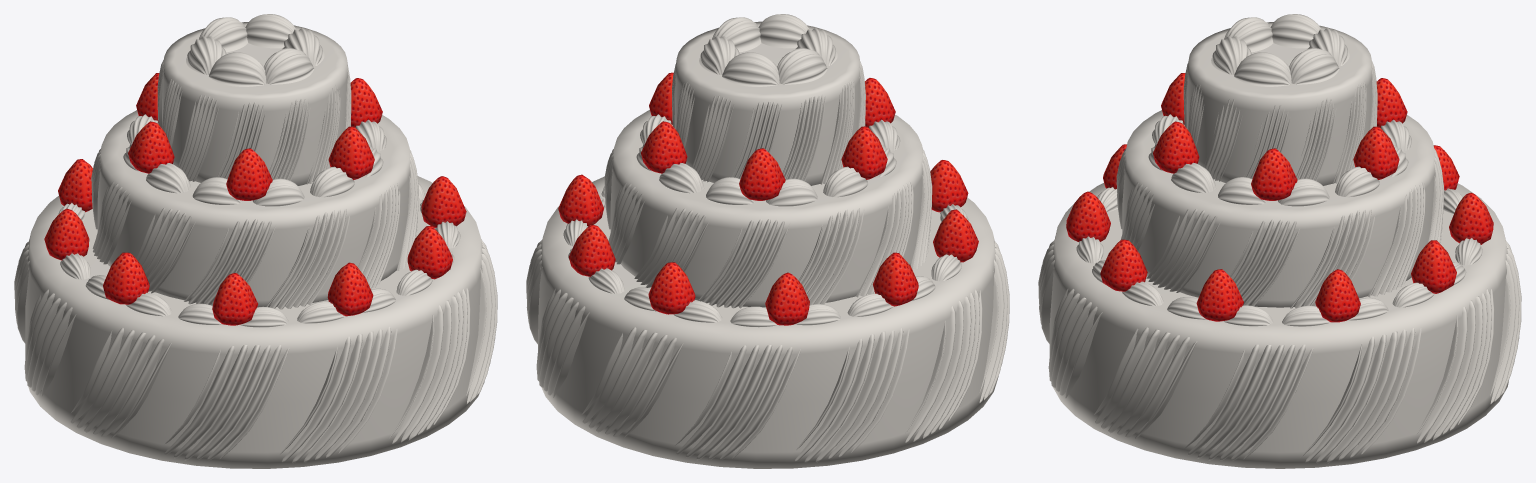
3 renders of one model, left to right at view 1: azimuth 30°, elevation 25°; view 2: azimuth 150°, elevation 25°; view 3: azimuth 270°, elevation 25°, orthographic.
Visible parts, largest first — view 1: pSphere15; view 2: pSphere15; view 3: pSphere15.
Part boxes in pixels (bbox=[...]): pSphere15: bbox=[14, 14, 497, 468]; pSphere15: bbox=[526, 14, 1009, 468]; pSphere15: bbox=[1038, 14, 1521, 468].
Size of the model in its own units: 32.56 by 25.1 by 32.56.
